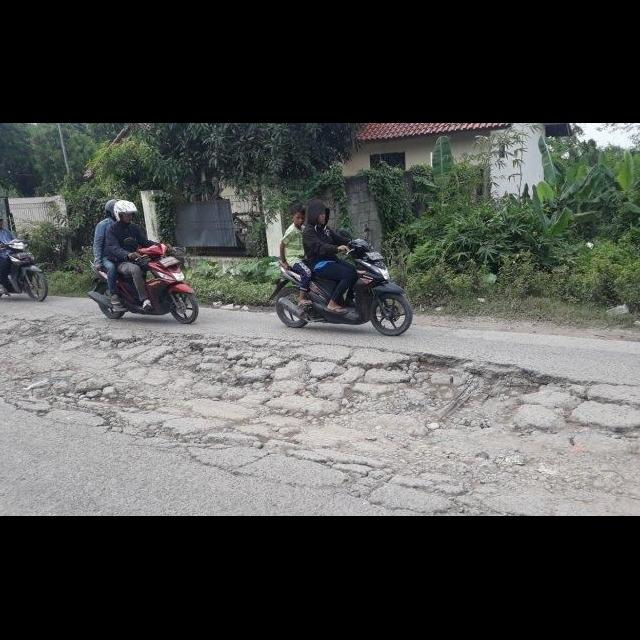lubang_kecil: (342, 350, 575, 439)
retak_kulit_buaya: (82, 329, 329, 465), (0, 314, 93, 419)
